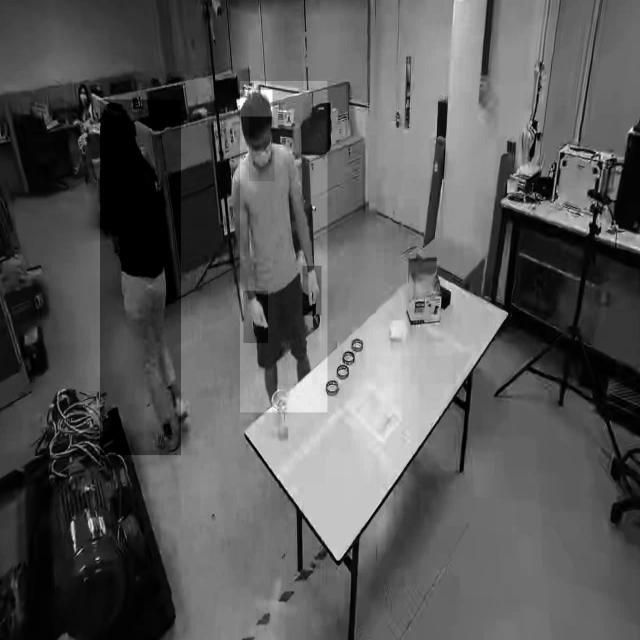face_mask: (249, 118, 275, 182)
hand_glove: (243, 291, 268, 344), (302, 266, 322, 316)
head_nohelmet: (100, 100, 136, 126), (240, 90, 272, 117)
person: (240, 81, 328, 413), (99, 100, 181, 456)
shoes: (153, 418, 179, 455), (168, 395, 189, 433)
